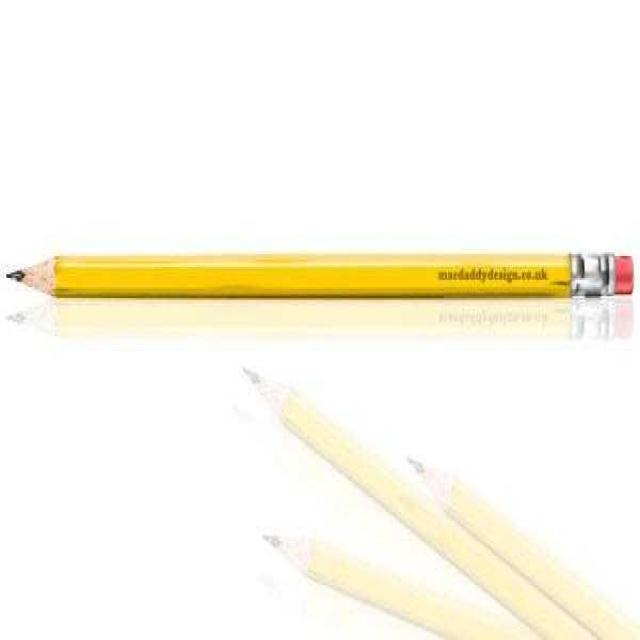pencil: (0, 226, 639, 330)
